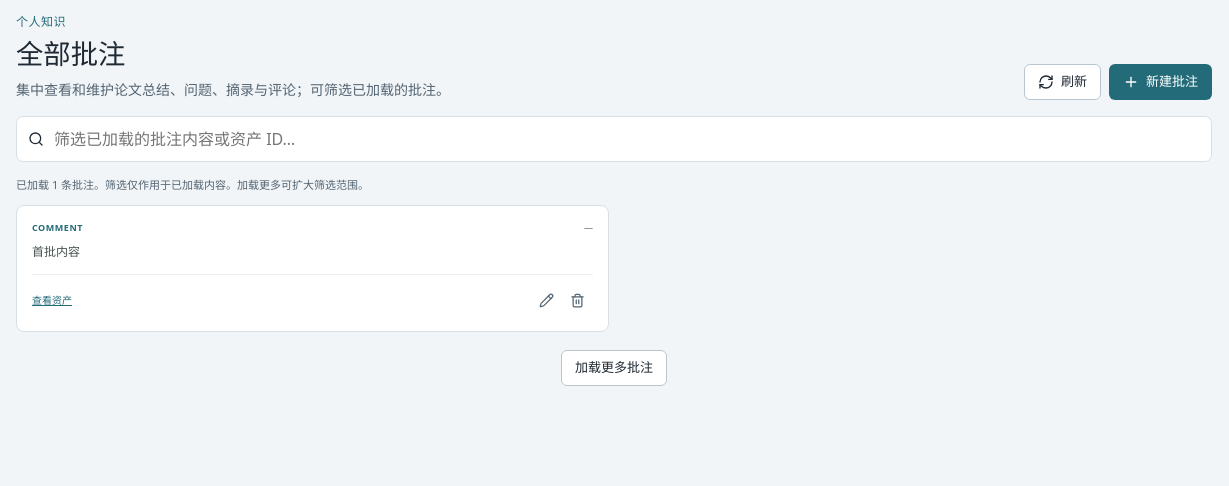
it: AnnotationsPage › makes the loaded filter scope explicit and finds matching annotations on the second page
The width and height of the screenshot is (1229, 486).
Expected: the text "首批内容" is shown, [32,243,80,260]
Type "匹配" into the search field named "筛选已加载批注". click: [626, 139]
box: [52,126,1200,152]
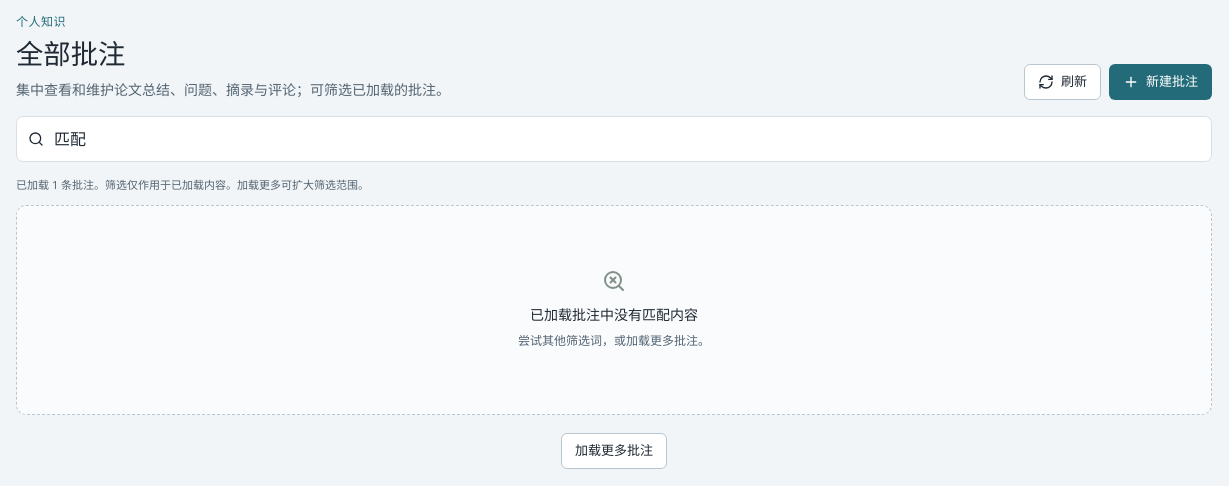
Expected: the text "已加载 1 条批注。筛选仅作用于已加载内容。加载更多可扩大筛选范围。" is shown, [16,177,369,192]
Expected: the text "已加载批注中没有匹配内容" is shown, [530,304,698,325]
Click the button "加载更多批注". click: [614, 451]
box: [561,433,667,469]
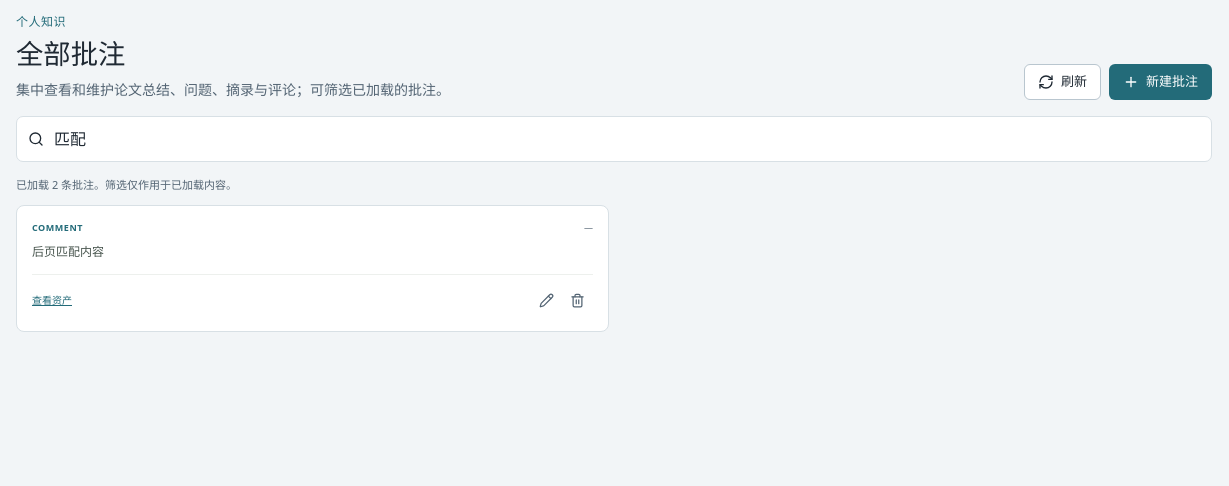
Expected: the text "后页匹配内容" is shown, [32,243,104,260]
Expected: the text "加载更多批注" is gone
